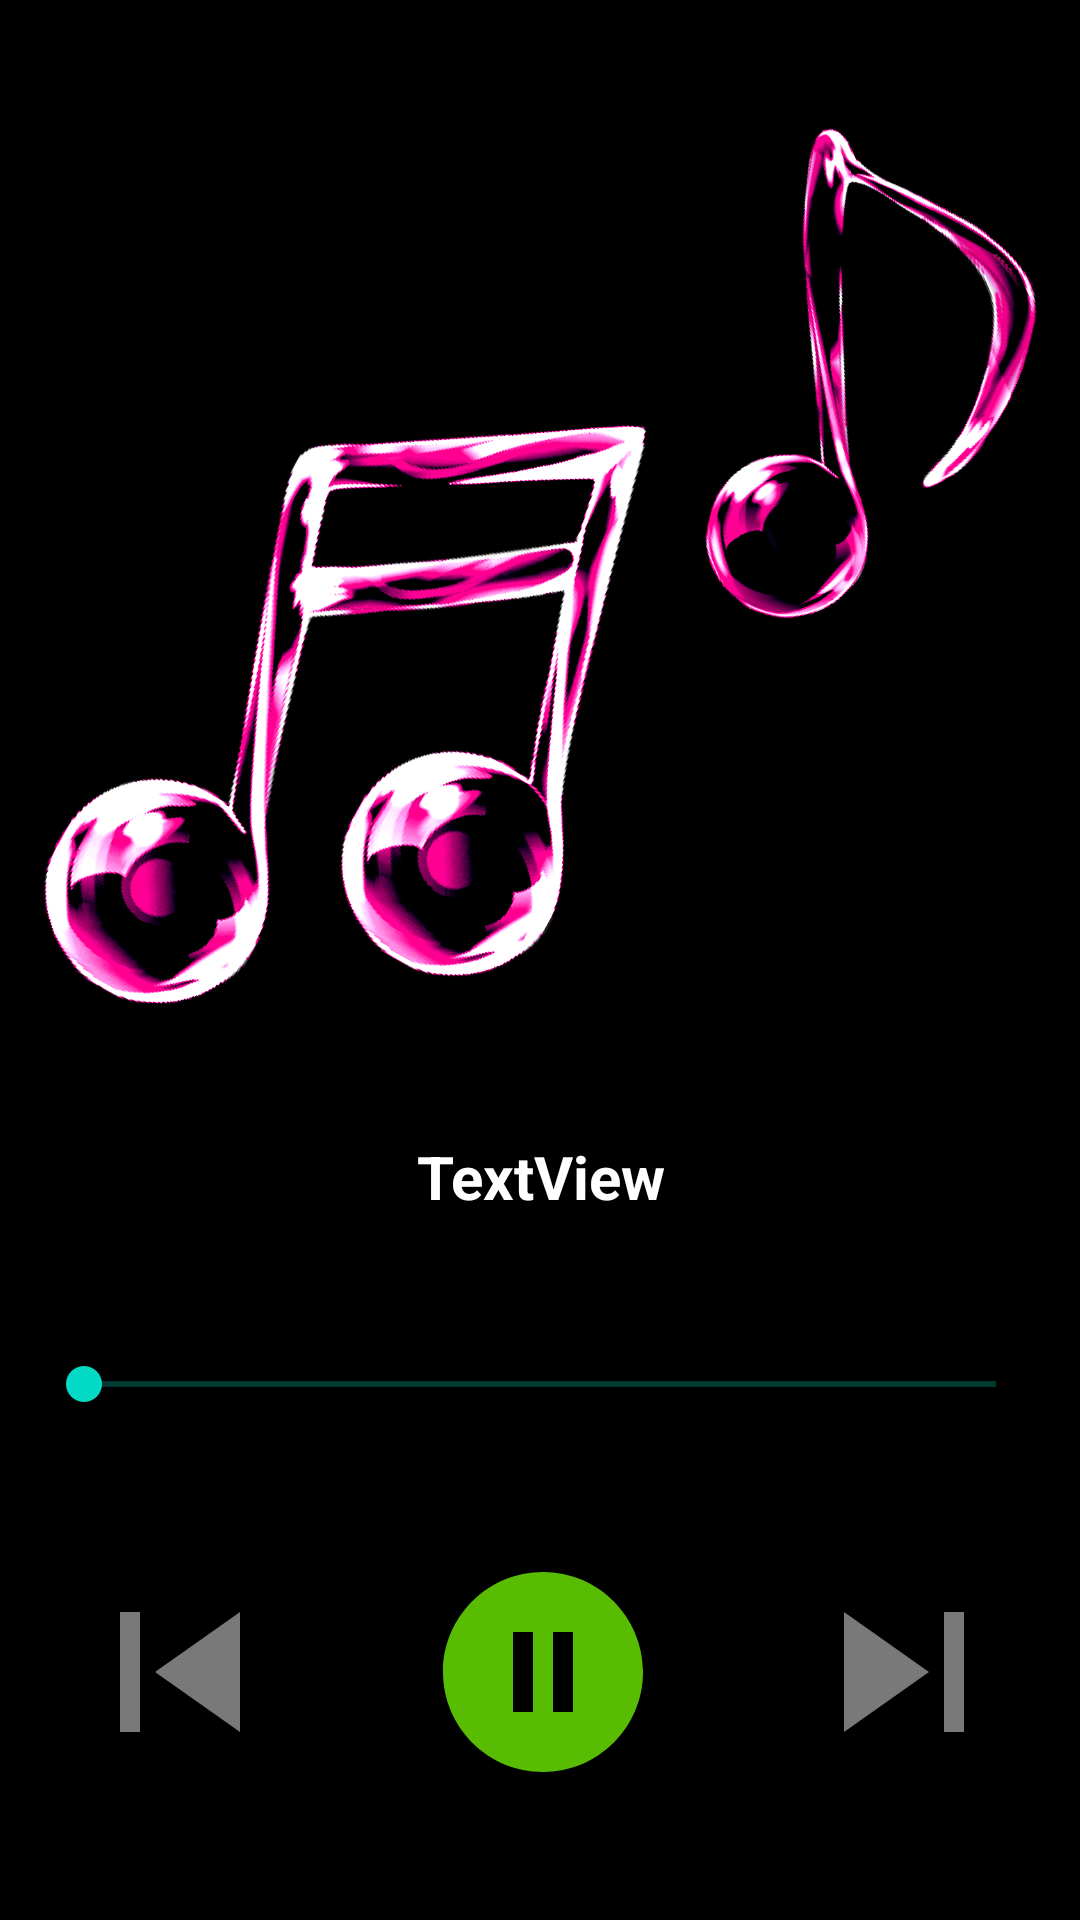

Named icons in this screenshot (1080w x 1920h) and their centers, (x=x, y=y):
next: (x=904, y=1672)
pause: (x=543, y=1672)
previous: (x=180, y=1672)
